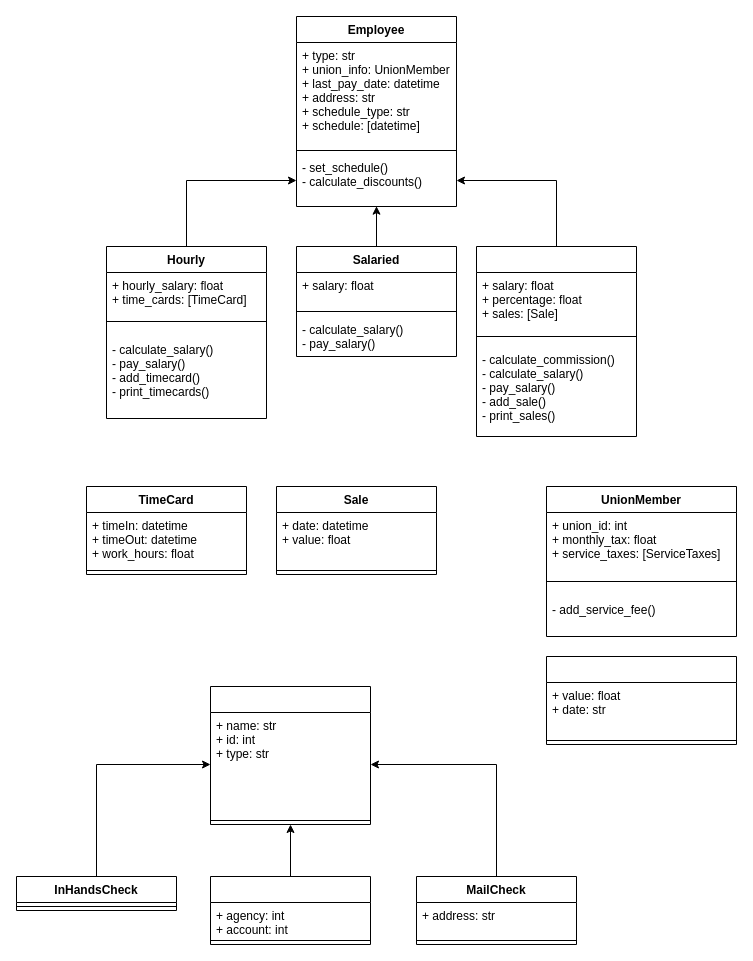
Some shapes in this 753 by 961 pixel diagram are drawn without their labels. Each missing label, with the box of its shape:
Commissioned: (476, 246, 636, 436)
Deposit: (210, 876, 370, 944)
PaymentMethod: (210, 686, 370, 824)
ServiceTaxes: (546, 656, 736, 744)
